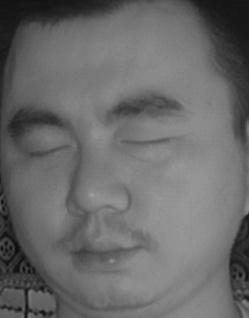blink: (120, 122, 171, 159), (25, 134, 74, 169)
mouth: (62, 227, 142, 276)
